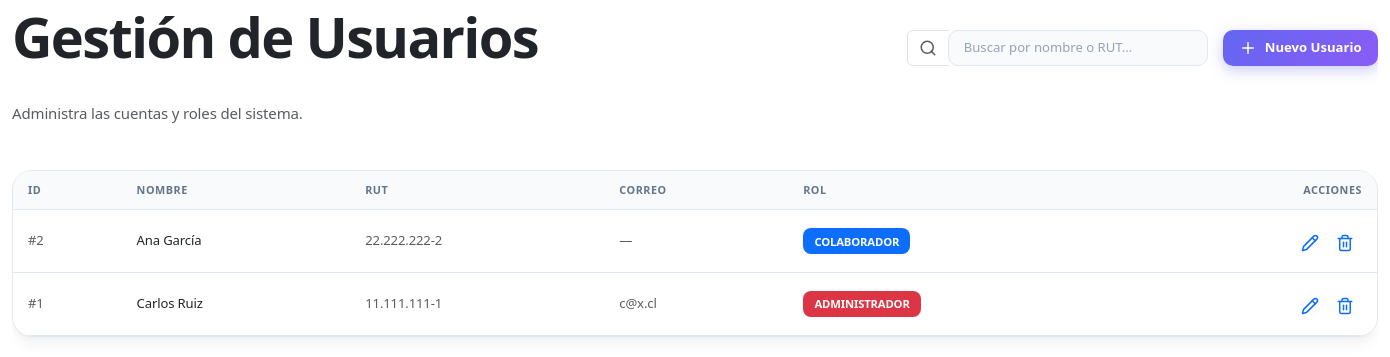
Test: UsersManagement › filtra usuarios por el término de búsqueda
Check: the text "Ana García" is shown, box [122,210,350,272]
Type "Ana" into the field with placeholder "Buscar por nombre o RUT...". click: (1078, 48)
box: [948,30,1208,66]
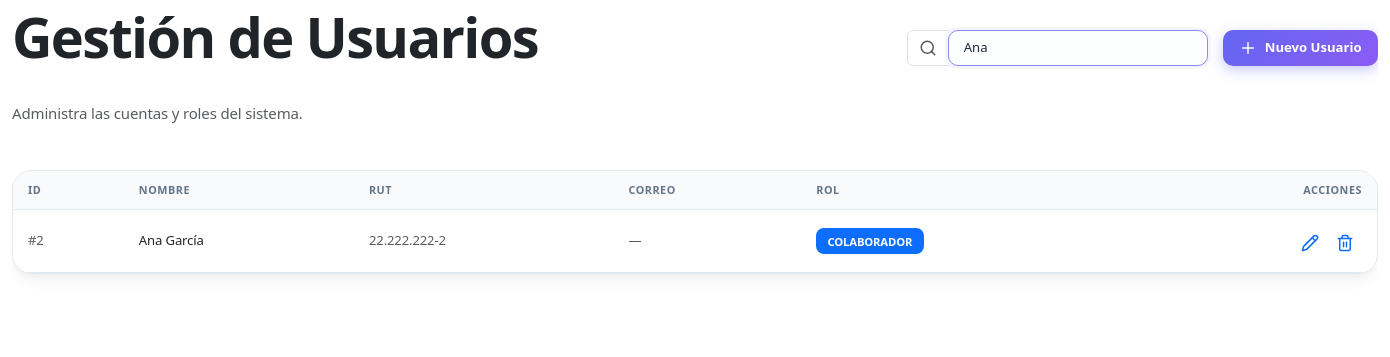
Check: the text "Ana García" is shown, box [124,210,354,272]
Check: the text "Carlos Ruiz" is gone
